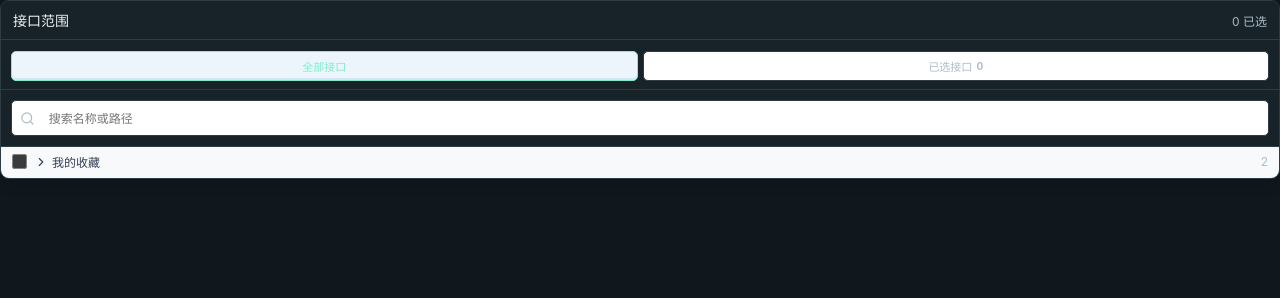
it: EndpointTree › keeps endpoint selection while filtering the tree
This screenshot has width=1280, height=298.
Click the button with test id "group-toggle-我的收藏" at (67, 162), box [34,153,100,170]
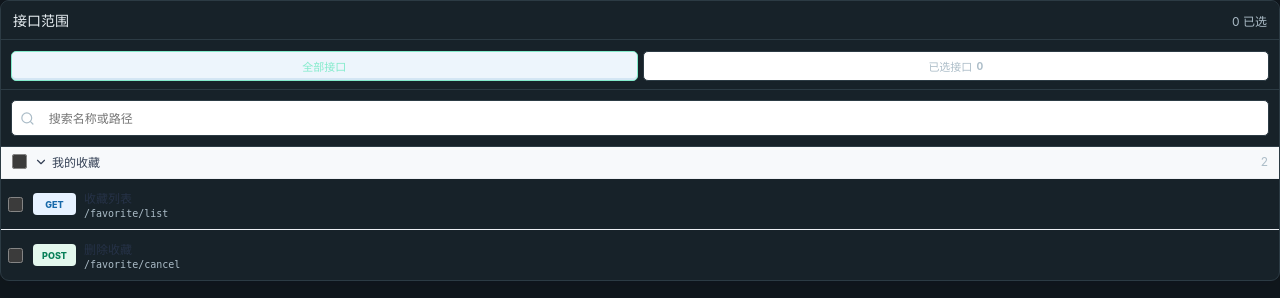
Click the checkbox with test id "endpoint-endpoint-1" at (16, 204), box [8,196,23,212]
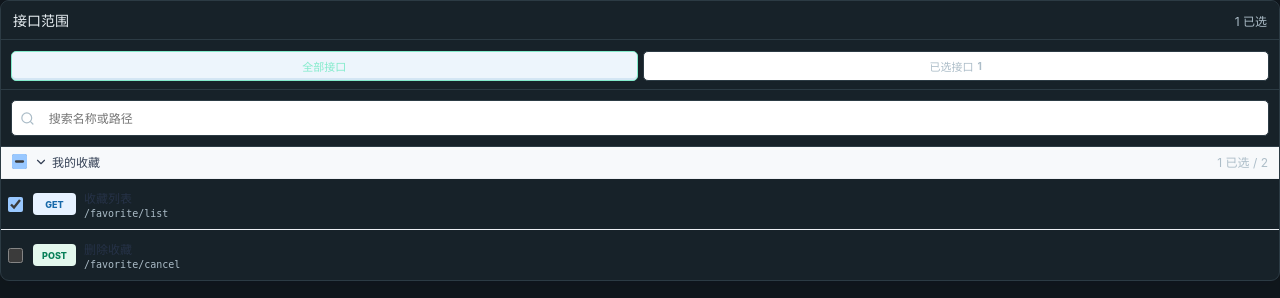
Type "删除收藏" into the field with test id "endpoint-search" at (650, 118), box [41,101,1260,135]
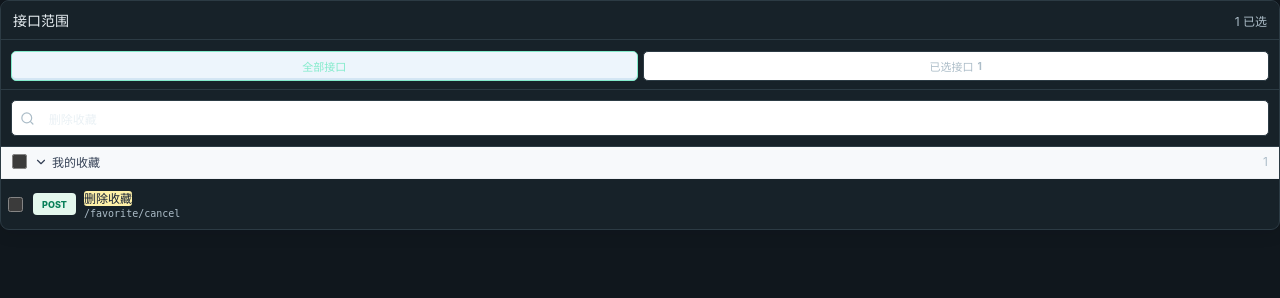
expect the text "删除收藏" is shown: met, box [84,191,132,206]
expect the text "收藏列表" is gone: met
